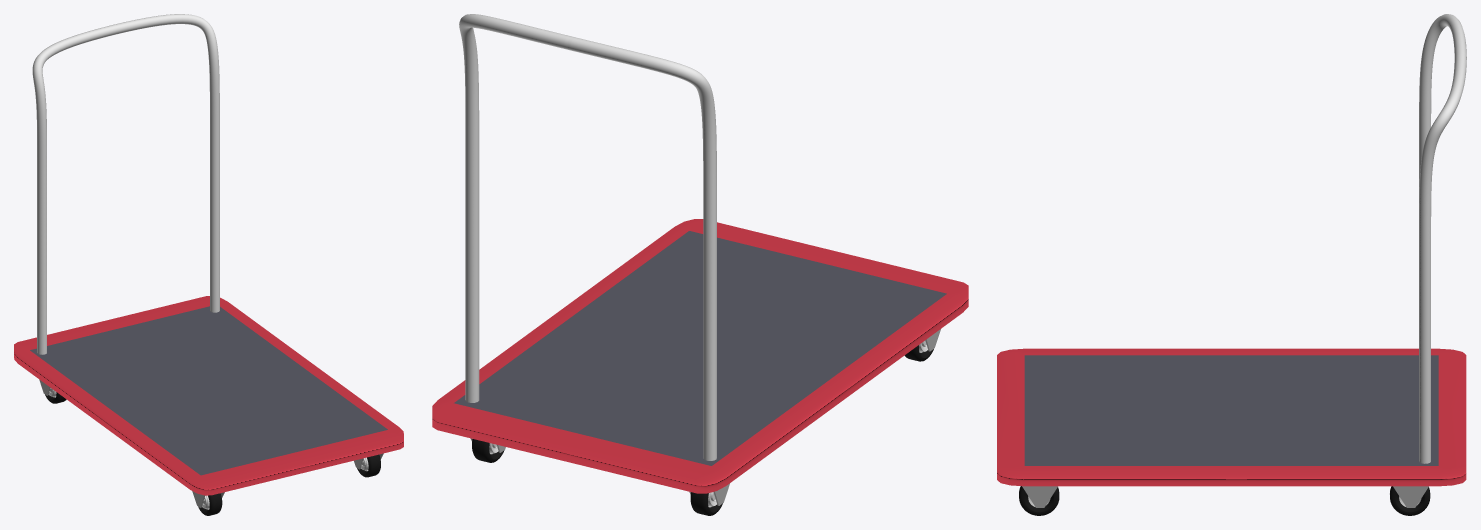
Rendered from Trolley.fbx.
3 views of the same model, side by side, from view 1: azimuth 30°, elevation 25°; view 2: azimuth 150°, elevation 25°; view 3: azimuth 270°, elevation 25° (orthographic). The views are drawn at different scales.
Parts seen in each view (by area): view 1: Cube, NurbsPath, roda.001; view 2: Cube, NurbsPath, roda; view 3: Cube, NurbsPath, roda.001, roda.
Part boxes in pixels (left/top/right/bottom): Cube: left=14, top=296, right=403, bottom=495; NurbsPath: left=32, top=14, right=219, bottom=354; roda.001: left=192, top=453, right=383, bottom=515; Cube: left=432, top=219, right=968, bottom=493; NurbsPath: left=459, top=14, right=716, bottom=460; roda: left=470, top=438, right=729, bottom=515; Cube: left=997, top=348, right=1466, bottom=486; NurbsPath: left=1419, top=14, right=1466, bottom=463; roda.001: left=1019, top=486, right=1059, bottom=515; roda: left=1390, top=486, right=1430, bottom=515.
Bounding box in the file's own units: 287 × 449 × 461.
